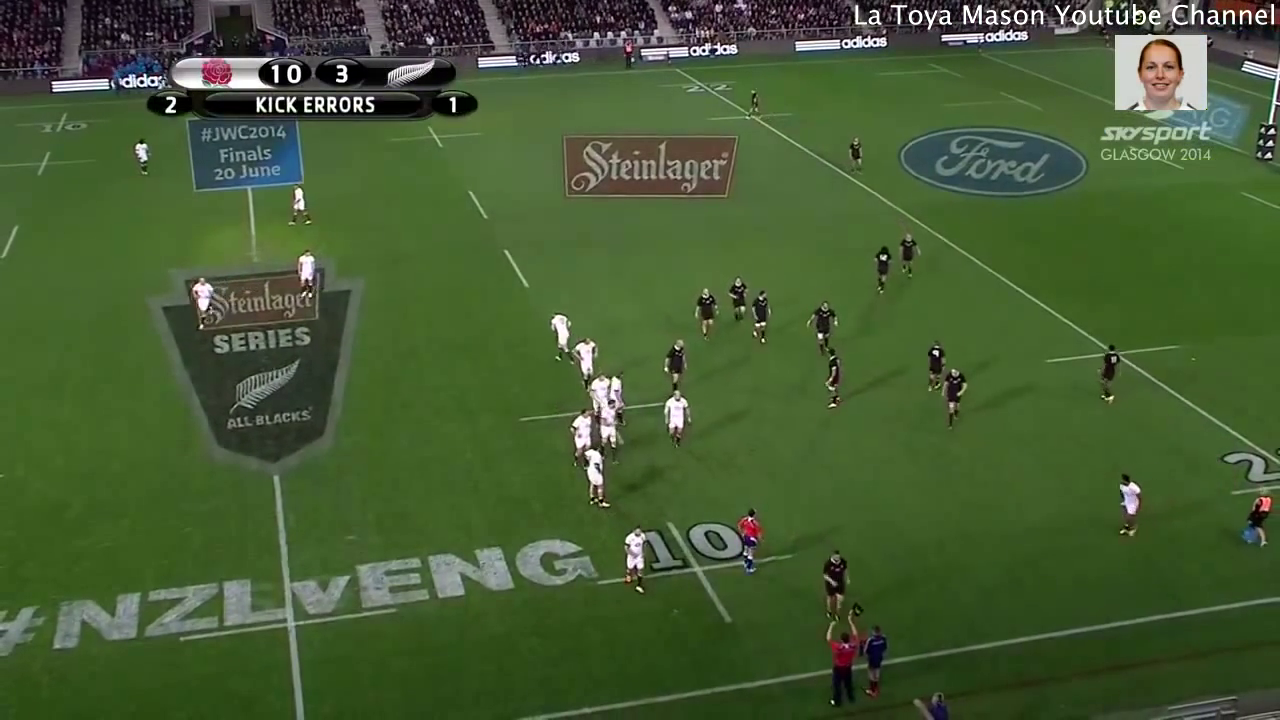10_metre: (589, 511, 804, 626), (511, 368, 695, 453), (1, 141, 104, 179), (11, 108, 113, 136), (388, 122, 485, 151)
player: (808, 541, 861, 625), (614, 523, 657, 601), (1107, 467, 1149, 545), (657, 385, 701, 455), (576, 437, 619, 507), (803, 296, 845, 365), (936, 361, 975, 429), (733, 501, 765, 580), (817, 345, 850, 417), (688, 280, 723, 347), (289, 244, 328, 304), (594, 391, 626, 464), (1093, 339, 1125, 411), (865, 240, 901, 304), (570, 331, 605, 396), (746, 283, 779, 350), (186, 275, 221, 337), (565, 401, 596, 471), (889, 229, 925, 288), (659, 335, 692, 394), (723, 275, 754, 333), (547, 306, 575, 369), (285, 176, 318, 228), (921, 330, 946, 398), (606, 365, 630, 431), (842, 132, 868, 179), (131, 132, 155, 180), (587, 366, 609, 415), (743, 82, 765, 127)
